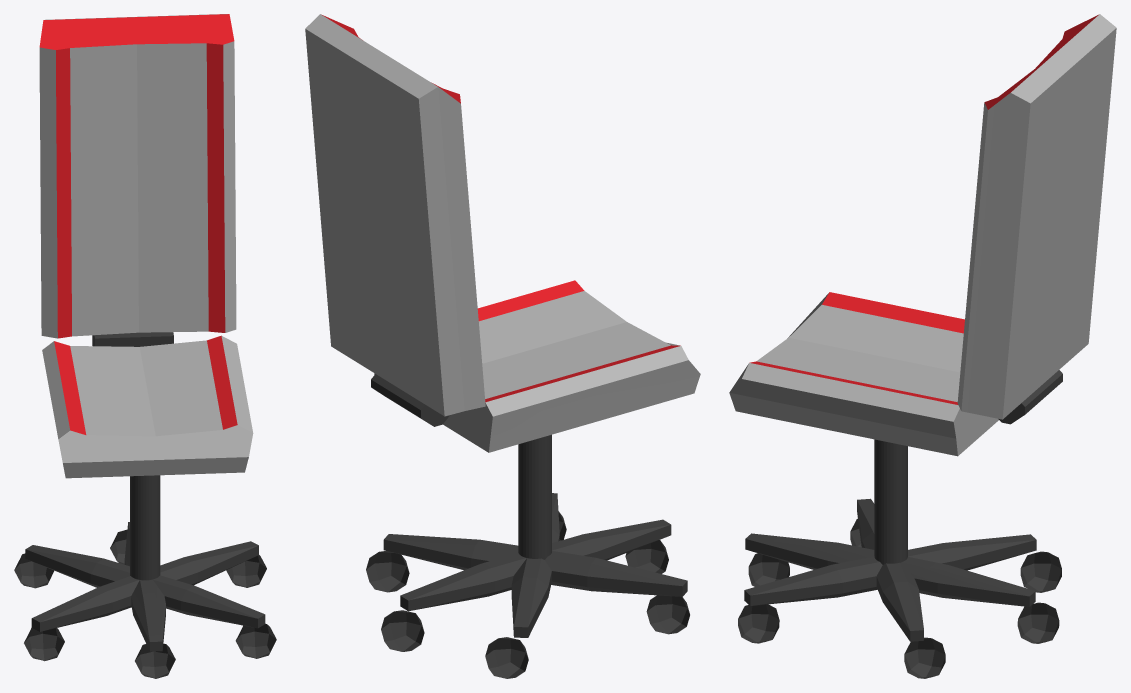
Rendered from bureaustoel.fbx.
3 renders of one model, left to right at view 1: azimuth 30°, elevation 25°; view 2: azimuth 150°, elevation 25°; view 3: azimuth 270°, elevation 25°, orthographic. The views are drawn at different scales.
Parts seen in each view (by area): view 1: Cube.004; view 2: Cube.004; view 3: Cube.004.
Boxes of the visible parts, bbox=[...] form: Cube.004: bbox=[14, 14, 276, 678]; Cube.004: bbox=[305, 14, 700, 678]; Cube.004: bbox=[729, 14, 1116, 678].
Size of the model in its own units: 229 by 440 by 259.
